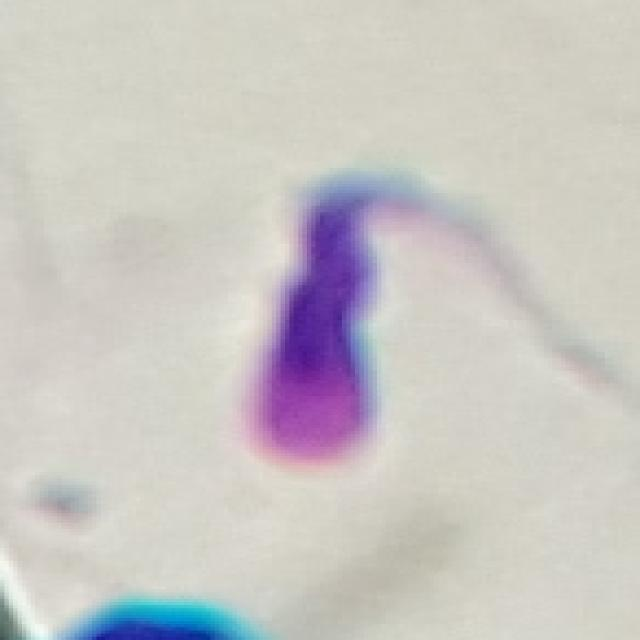abnormal sperm: (248, 170, 474, 466)
